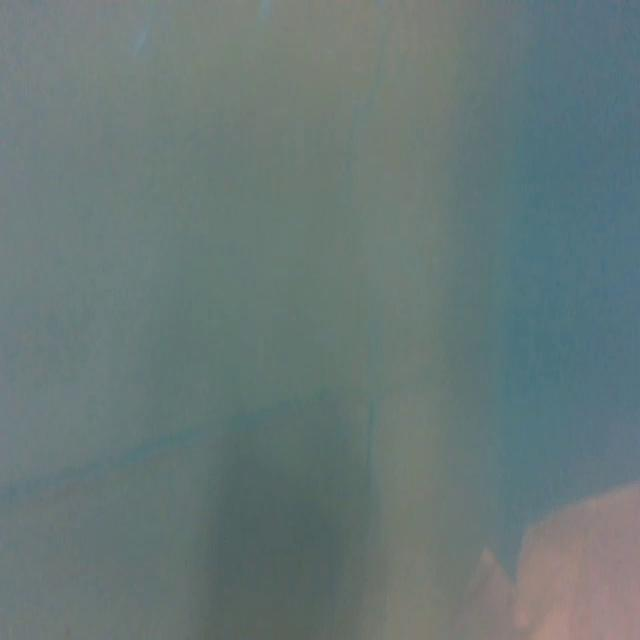plastic bags: (465, 484, 640, 640)
